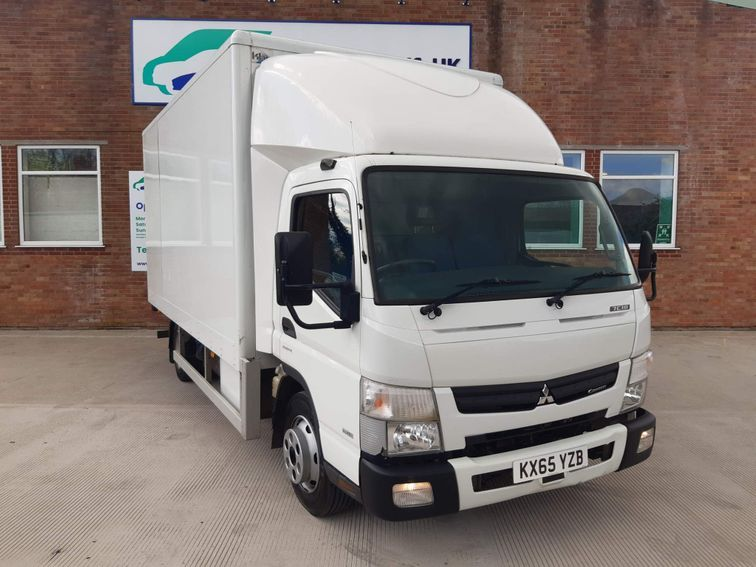Semi: (140, 28, 656, 520)
